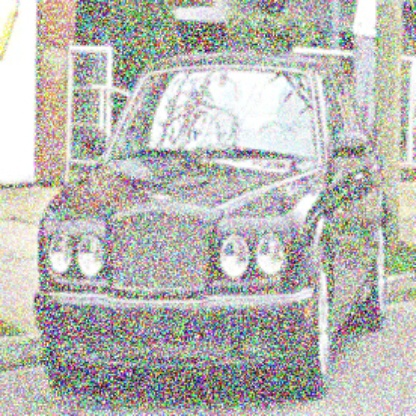Vehicle: (34, 54, 392, 399)
